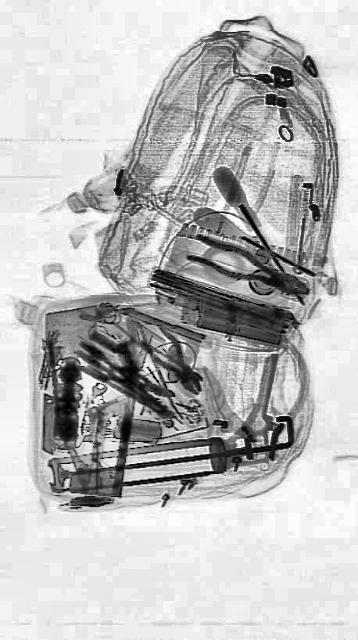Pliers: (186, 228, 310, 306), (143, 315, 207, 409)
